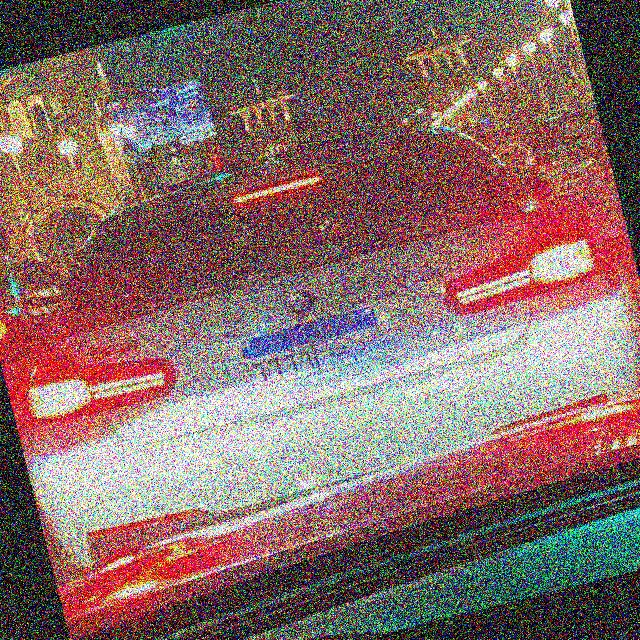License Plate: (237, 304, 389, 394)
